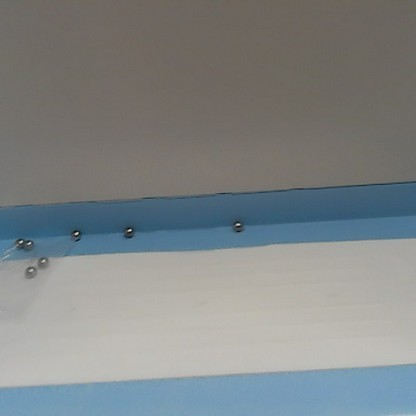ironball: (35, 252, 50, 268), (69, 227, 83, 243), (121, 225, 135, 239), (24, 264, 38, 278), (230, 219, 243, 233), (22, 237, 35, 250), (14, 234, 25, 248)
